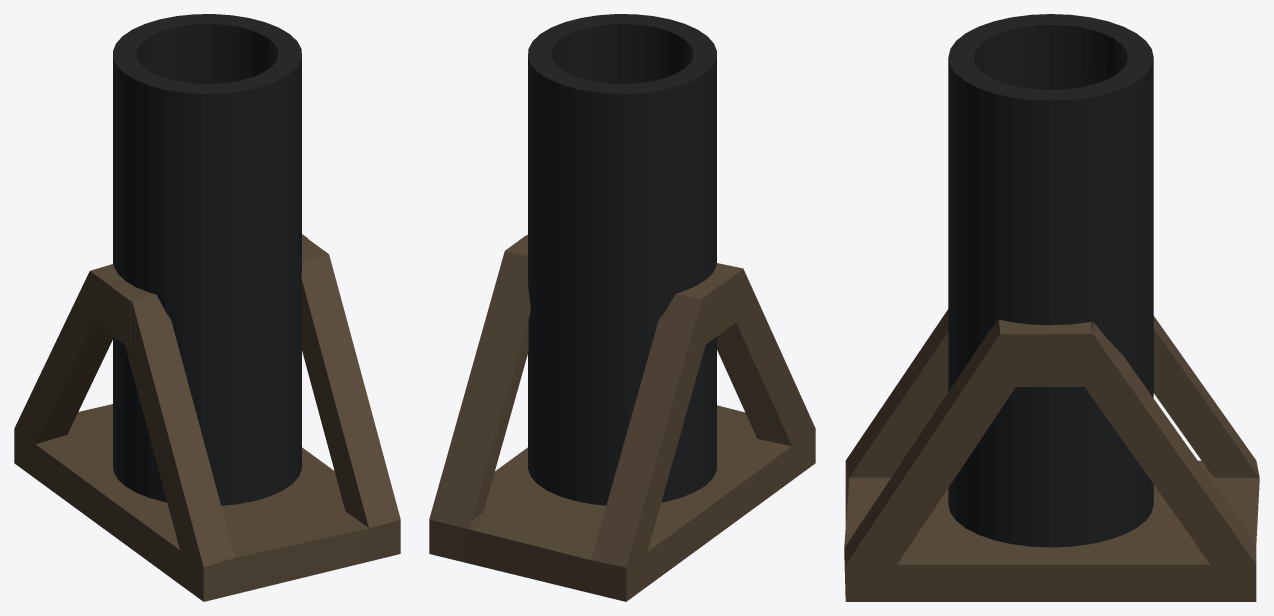
The model's file is Mortar.fbx.
3 views of the same model, side by side, from view 1: azimuth 30°, elevation 25°; view 2: azimuth 150°, elevation 25°; view 3: azimuth 270°, elevation 25° (orthographic). The views are drawn at different scales.
Parts seen in each view (by area): view 1: Cylinder, Cube.001, Cube; view 2: Cylinder, Cube.001, Cube; view 3: Cylinder, Cube.001, Cube.002.
Boxes of the visible parts, left/top/right/bottom form: Cylinder: left=113, top=14, right=301, bottom=505; Cube.001: left=14, top=234, right=400, bottom=601; Cube: left=94, top=287, right=130, bottom=348; Cylinder: left=528, top=14, right=716, bottom=505; Cube.001: left=429, top=234, right=815, bottom=601; Cube: left=706, top=270, right=741, bottom=343; Cylinder: left=948, top=14, right=1153, bottom=547; Cube.001: left=844, top=309, right=1259, bottom=601; Cube.002: left=1005, top=334, right=1087, bottom=386.
Bounding box in the file's own units: 60.06 × 132 × 101.
